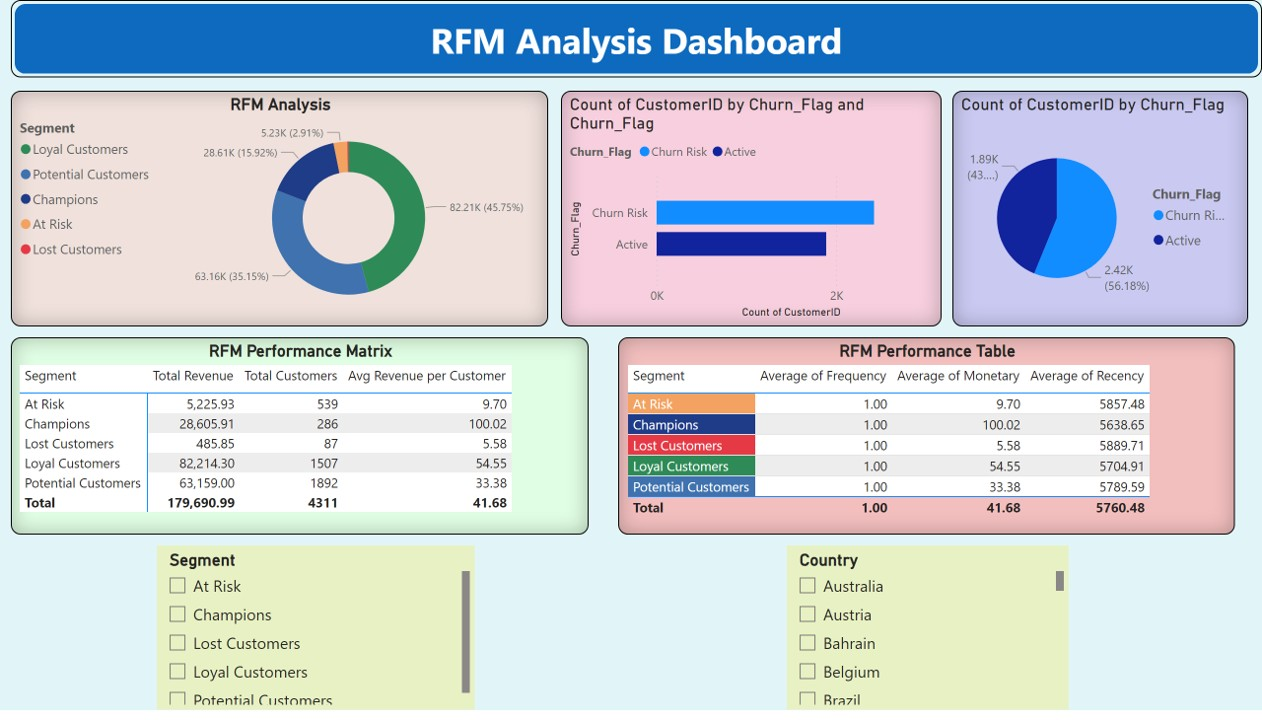

This screenshot's page, from the dashboard's own definition file:
{"tool":"powerbi","page":{"name":"RFM Analysis","canvas":[1280,720],"ordinal":1},"visuals":[{"type":"shape","box":[10.6,0,1268.9,78.7],"z":0},{"type":"donutChart","title":"RFM Analysis","fields":{"Category":["rfm_customer_segments.Segment"],"Y":["KPI Measures.Total Revenue"]},"box":[10.6,92.4,545.1,239.2],"z":1},{"type":"pivotTable","title":"RFM Performance Matrix","fields":{"Rows":["rfm_customer_segments.Segment"],"Values":["KPI Measures.Total Revenue","KPI Measures.Total Customers","KPI Measures.Avg Revenue per Customer"]},"box":[10.6,342.2,586,199.9],"z":2},{"type":"barChart","fields":{"Category":["rfm_customer_segments.Churn_Flag"],"Series":["rfm_customer_segments.Churn_Flag"],"Y":["rfm_customer_segments.CustomerID"]},"box":[569.3,92.4,386.1,239.2],"z":3},{"type":"tableEx","title":"RFM Performance Table","fields":{"Values":["rfm_customer_segments.Segment","rfm_customer_segments.Frequency","rfm_customer_segments.Monetary","rfm_customer_segments.Recency"]},"box":[626.9,342.2,625.4,199.9],"z":5},{"type":"pieChart","fields":{"Category":["rfm_customer_segments.Churn_Flag"],"Y":["rfm_customer_segments.CustomerID"]},"box":[966.1,92.4,299.8,239.2],"z":6},{"type":"slicer","fields":{"Values":["rfm_customer_segments.Segment"]},"box":[159,552.7,322.5,166.6],"z":7},{"type":"slicer","fields":{"Values":["dim_customer.Country"]},"box":[798,552.7,286.2,166.6],"z":8}]}

Visuals, with their boxes in screenshot pixels (x1, y1, x2, y2), scaled from the page's 1280x720 canvas onto the 1262x720 screenshot:
shape: box=[10, 0, 1261, 79]
"RFM Analysis" donutChart: box=[10, 92, 548, 332]
"RFM Performance Matrix" pivotTable: box=[10, 342, 588, 542]
barChart - rfm_customer_segments.Churn_Flag x rfm_customer_segments.Churn_Flag: box=[561, 92, 942, 332]
"RFM Performance Table" tableEx: box=[618, 342, 1235, 542]
pieChart - rfm_customer_segments.Churn_Flag x rfm_customer_segments.CustomerID: box=[953, 92, 1248, 332]
slicer - rfm_customer_segments.Segment: box=[157, 553, 475, 719]
slicer - dim_customer.Country: box=[787, 553, 1069, 719]
